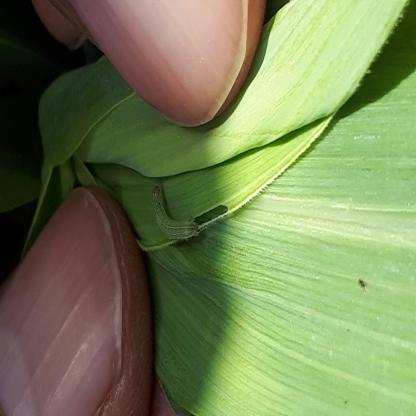armyworm: (96, 262, 135, 368)
